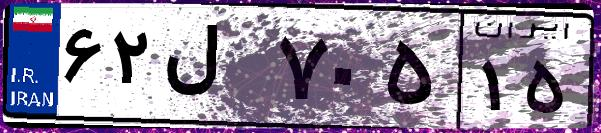0: (330, 28, 385, 110)
1: (475, 38, 525, 113)
2: (110, 28, 158, 98)
5: (385, 28, 445, 110), (525, 38, 570, 115)
6: (57, 26, 110, 100)
7: (270, 28, 330, 110)
ل: (158, 20, 270, 120)
